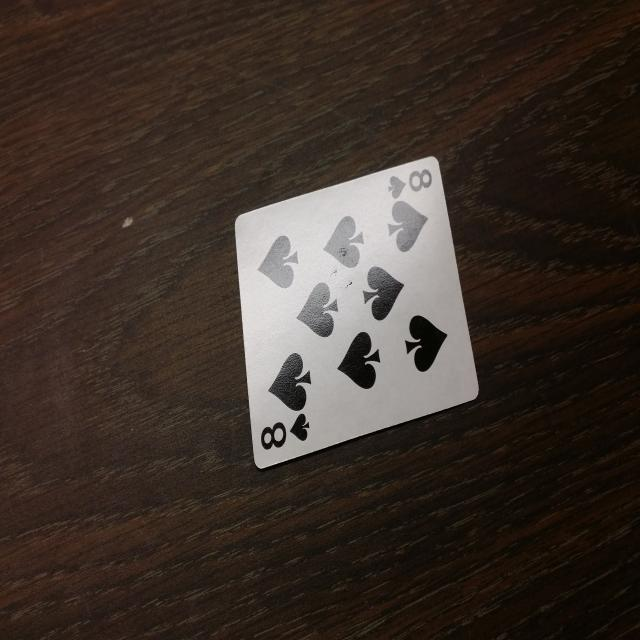8s: (258, 409, 315, 459), (382, 159, 437, 208)
